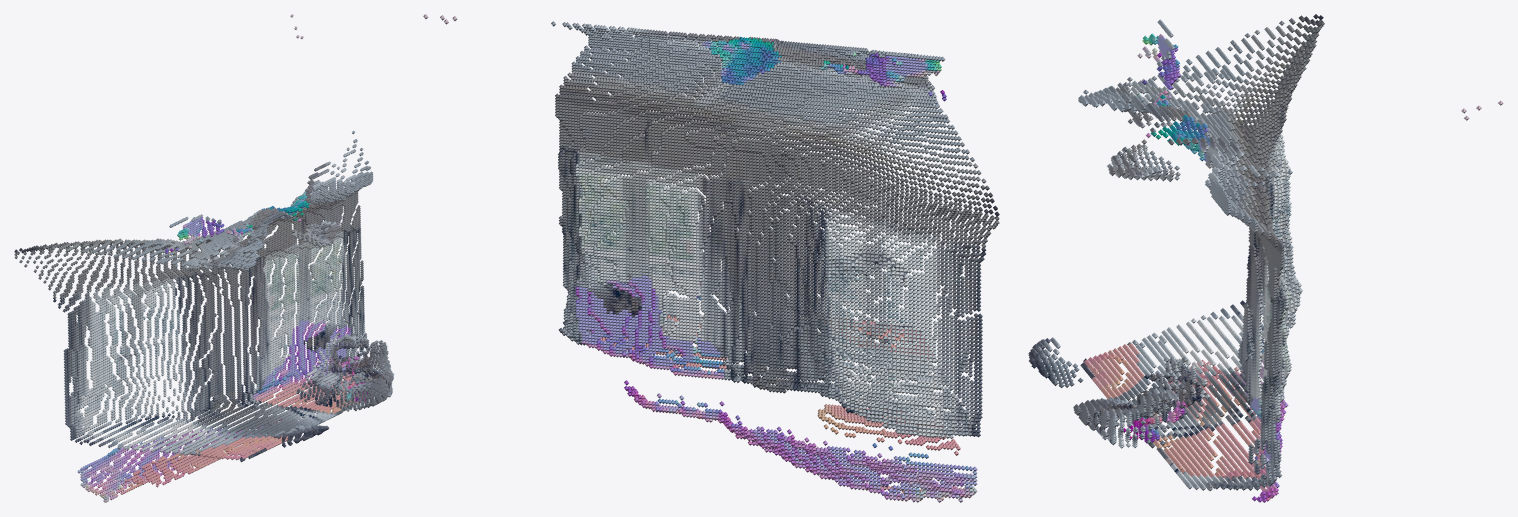
Rendered from combine_pred.glb.
3 renders of one model, left to right at view 1: azimuth 30°, elevation 25°; view 2: azimuth 150°, elevation 25°; view 3: azimuth 270°, elevation 25°, orthographic. The views are drawn at different scales.
Parts seen in each view (by area): view 1: world; view 2: world; view 3: world.
Part boxes in pixels (x1,y1,x2,y2): world: (14,14,394,502); world: (423,14,999,502); world: (1028,14,1503,502).
Bounding box in the file's own units: 5.53 × 5.35 × 4.78.
